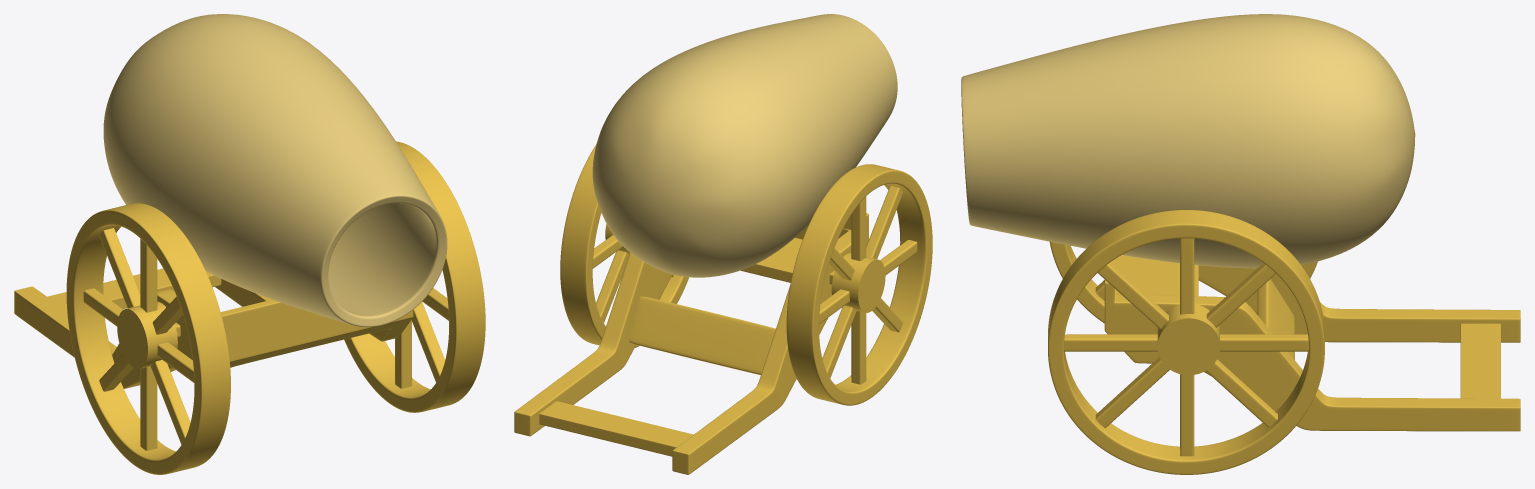
File: Canon.fbx
3 renders of one model, left to right at view 1: azimuth 30°, elevation 25°; view 2: azimuth 150°, elevation 25°; view 3: azimuth 270°, elevation 25°, orthographic. The views are drawn at different scales.
Parts seen in each view (by area): view 1: pCylinder5, pCylinder9, pCylinder6, pCube3, pCube14, pCube15, pCylinder8, pCube13, pCube16, pCube12, pCube6, pCube9; view 2: pCylinder5, pCylinder9, pCube3, pCube8, pCylinder6, pCube6, pCube16, pCylinder8, pCube15, pCube7, pCube13, pCube11 (+2 smaller); view 3: pCylinder5, pCube3, pCylinder6, pCylinder7, pCube10, pCube6, pCube12, pCube11, pCube9, pCube7, pCube8, pCylinder9.
Part boxes in pixels (x1,y1,x2,y2): pCylinder5: [103, 14, 447, 327]; pCylinder9: [66, 203, 230, 474]; pCylinder6: [344, 141, 485, 412]; pCube3: [14, 279, 413, 388]; pCube14: [99, 228, 190, 444]; pCube15: [140, 239, 157, 450]; pCylinder8: [117, 301, 177, 368]; pCube13: [83, 288, 194, 382]; pCube16: [99, 296, 182, 391]; pCube12: [411, 302, 444, 382]; pCube6: [47, 268, 221, 310]; pCube9: [395, 320, 411, 388]; pCylinder5: [592, 14, 897, 277]; pCylinder9: [786, 164, 932, 405]; pCube3: [514, 213, 868, 474]; pCube8: [629, 296, 775, 374]; pCylinder6: [560, 144, 688, 347]; pCube6: [539, 401, 693, 456]; pCube16: [822, 186, 903, 377]; pCylinder8: [831, 253, 885, 312]; pCube15: [851, 196, 866, 384]; pCube7: [740, 238, 802, 282]; pCube13: [819, 240, 917, 323]; pCube11: [596, 250, 628, 322]; pCylinder5: [961, 14, 1415, 268]; pCube3: [1104, 259, 1520, 431]; pCylinder6: [1048, 210, 1324, 474]; pCylinder7: [1157, 304, 1220, 375]; pCube10: [1064, 334, 1308, 351]; pCube6: [1460, 323, 1500, 398]; pCube12: [1095, 263, 1275, 428]; pCube11: [1098, 262, 1277, 427]; pCube9: [1180, 238, 1194, 456]; pCube7: [1114, 255, 1198, 296]; pCube8: [1257, 279, 1294, 359]; pCylinder9: [1049, 242, 1317, 323].
Bounding box in the file's own units: 8.33 × 10.37 × 13.87.
